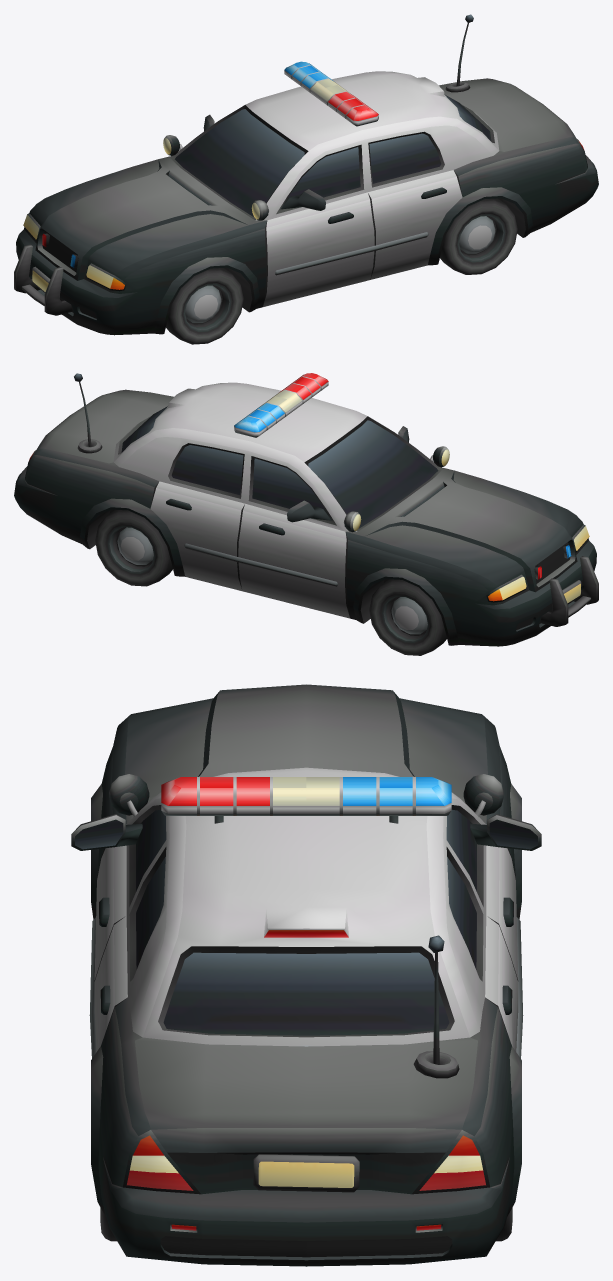
Rendered from PoliceCar (1).fbx.
3 renders of one model, top to bottom at view 1: azimuth 30°, elevation 25°; view 2: azimuth 150°, elevation 25°; view 3: azimuth 270°, elevation 25°, orthographic. The views are drawn at different scales.
Visible parts, largest first — view 1: police car cartoon; view 2: police car cartoon; view 3: police car cartoon.
Part boxes in pixels (x1,y1,x2,y2): police car cartoon: (14,14,598,344); police car cartoon: (14,373,598,655); police car cartoon: (71,684,541,1266).
Size of the model in its own units: 2146 by 712 by 818.
